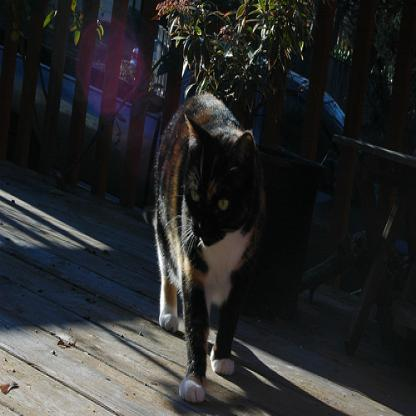cat: (154, 92, 265, 408)
pottedplant: (151, 0, 329, 323)
